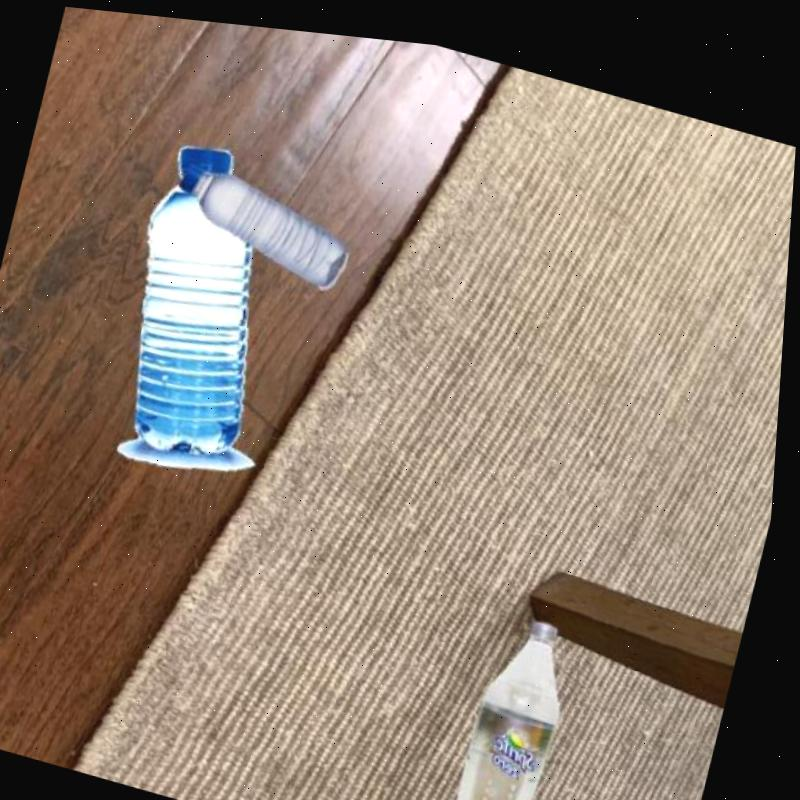botella: (97, 125, 308, 472), (443, 590, 589, 800), (162, 152, 369, 294)
